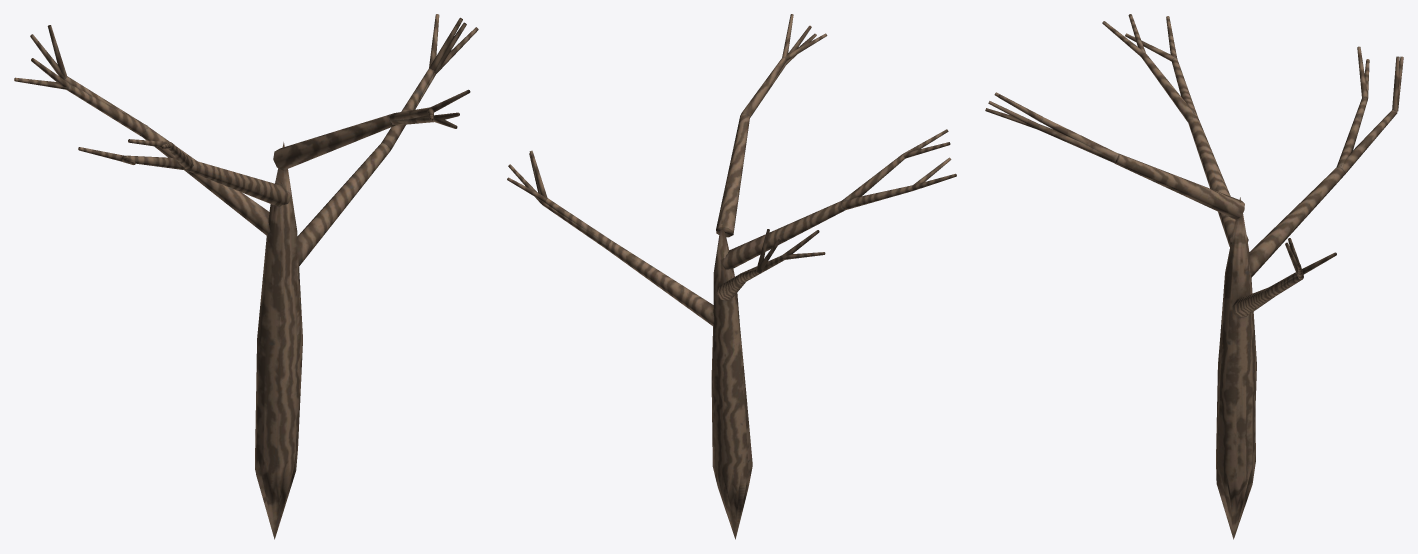
Rendered from dead_tree.glb.
The picture shows the model from 3 angles, left to right: view 1: azimuth 30°, elevation 25°; view 2: azimuth 150°, elevation 25°; view 3: azimuth 270°, elevation 25°; orthographic projection. The views are drawn at different scales.
Visible parts, largest first — view 1: dead_tree; view 2: dead_tree; view 3: dead_tree.
Boxes of the visible parts, left/top/right/bottom form: dead_tree: left=14, top=14, right=478, bottom=539; dead_tree: left=507, top=14, right=956, bottom=539; dead_tree: left=985, top=14, right=1403, bottom=539.
Size of the model in its own units: 6.69 by 7.16 by 5.76.
1 material, 1 textured.
